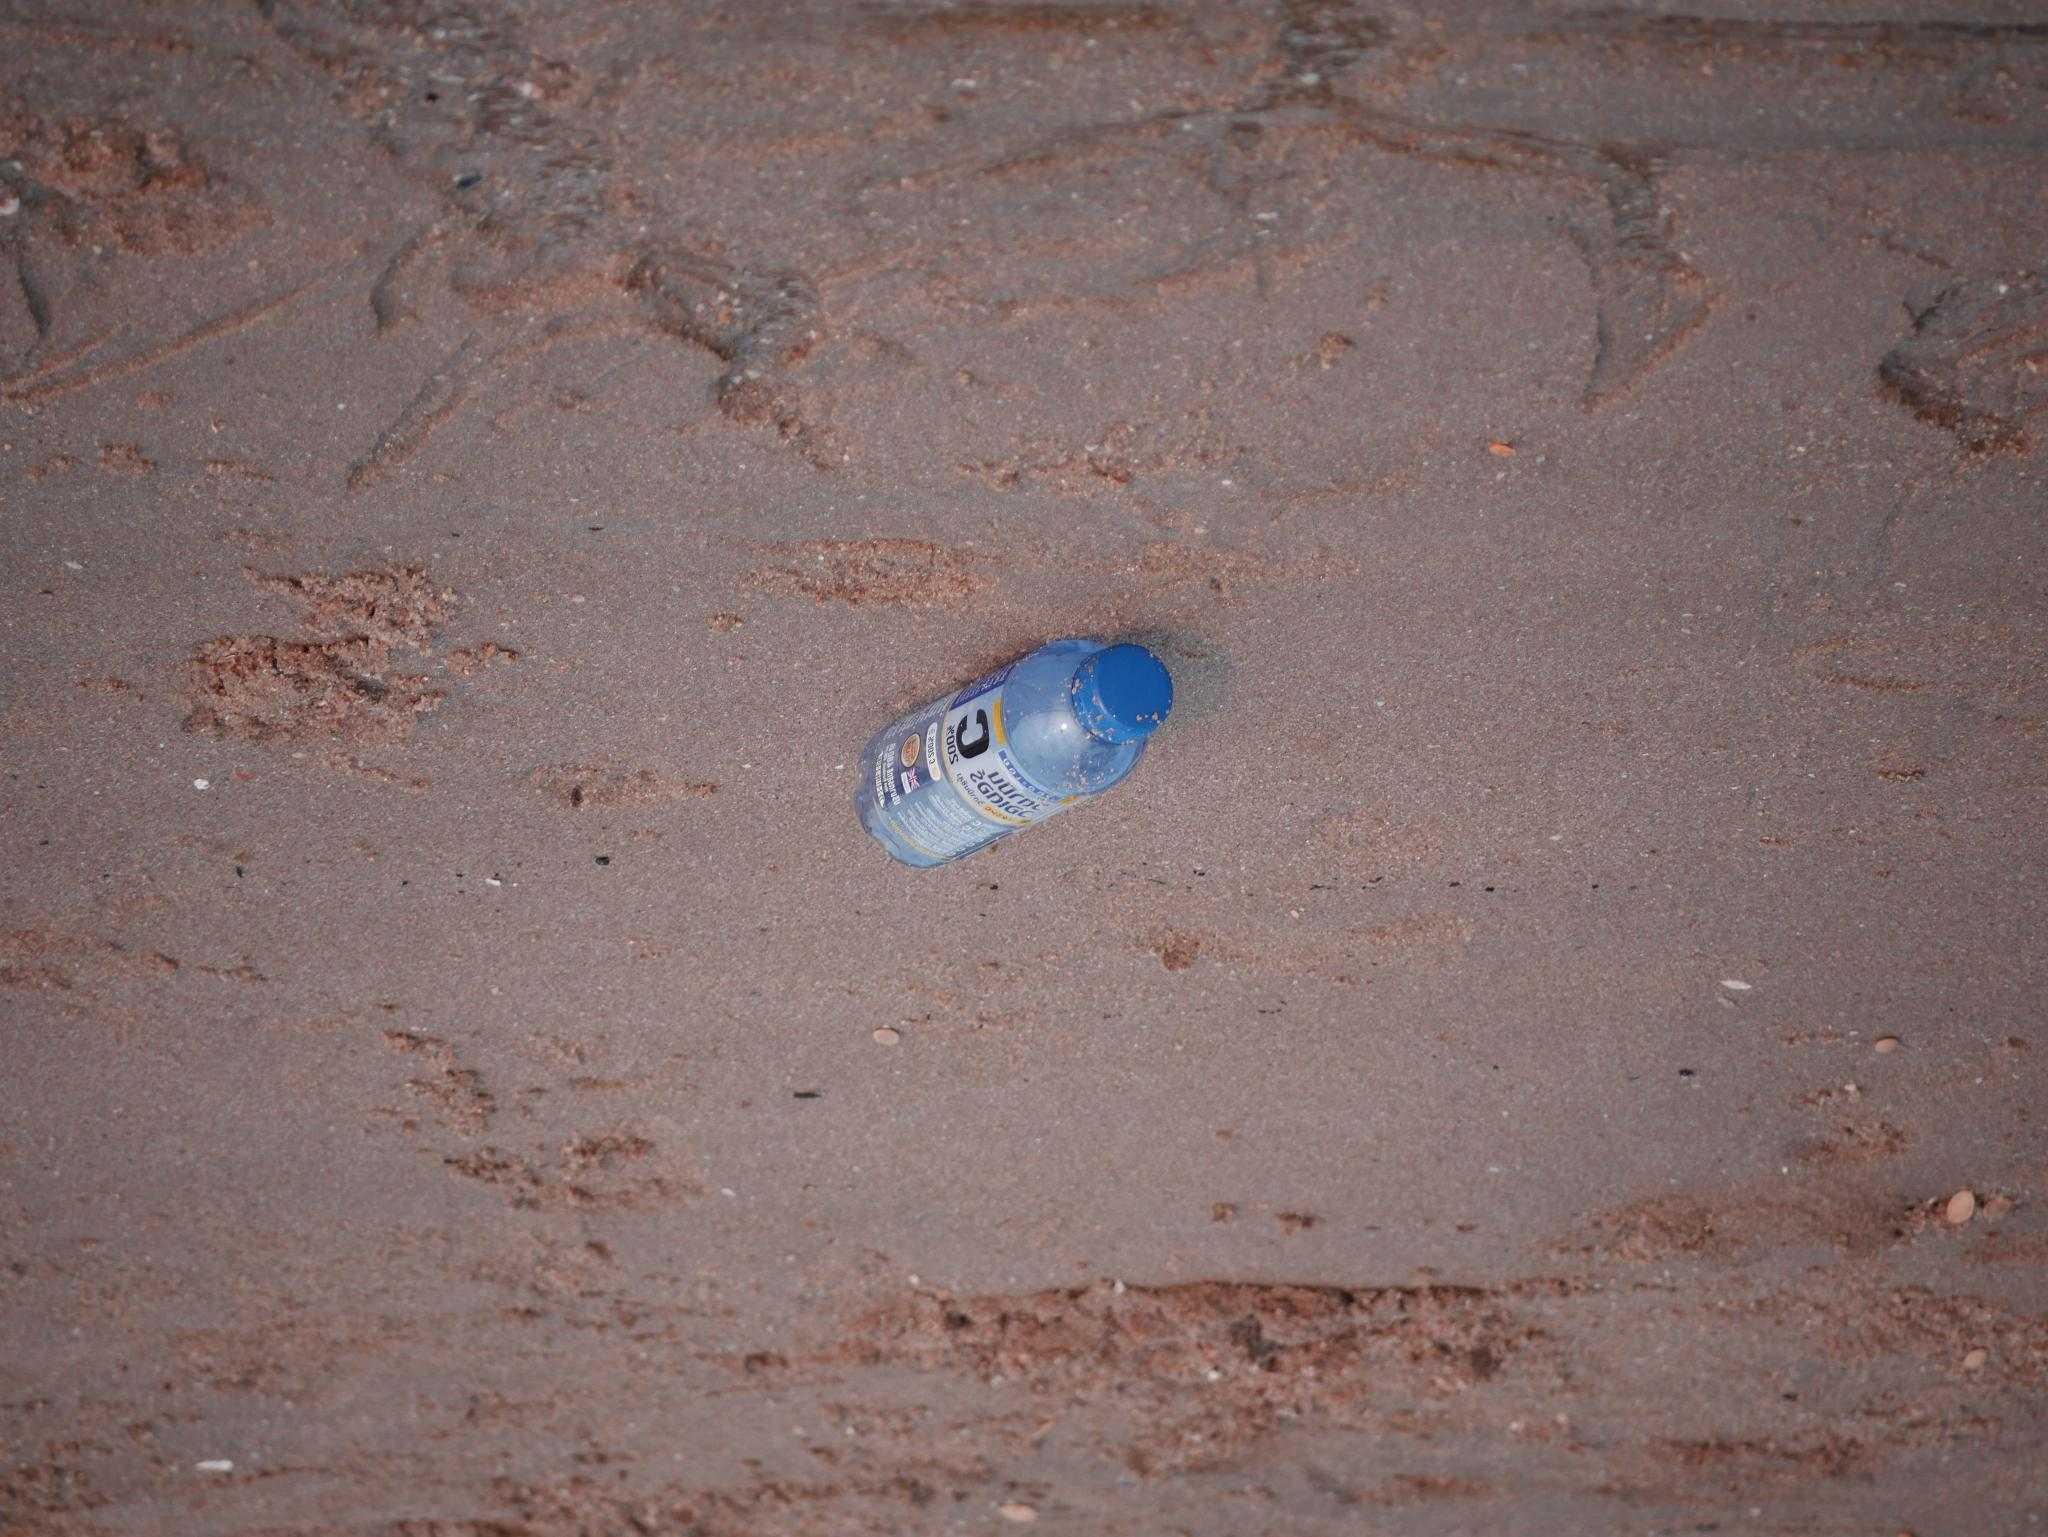Plastic: (786, 594, 1199, 898)
